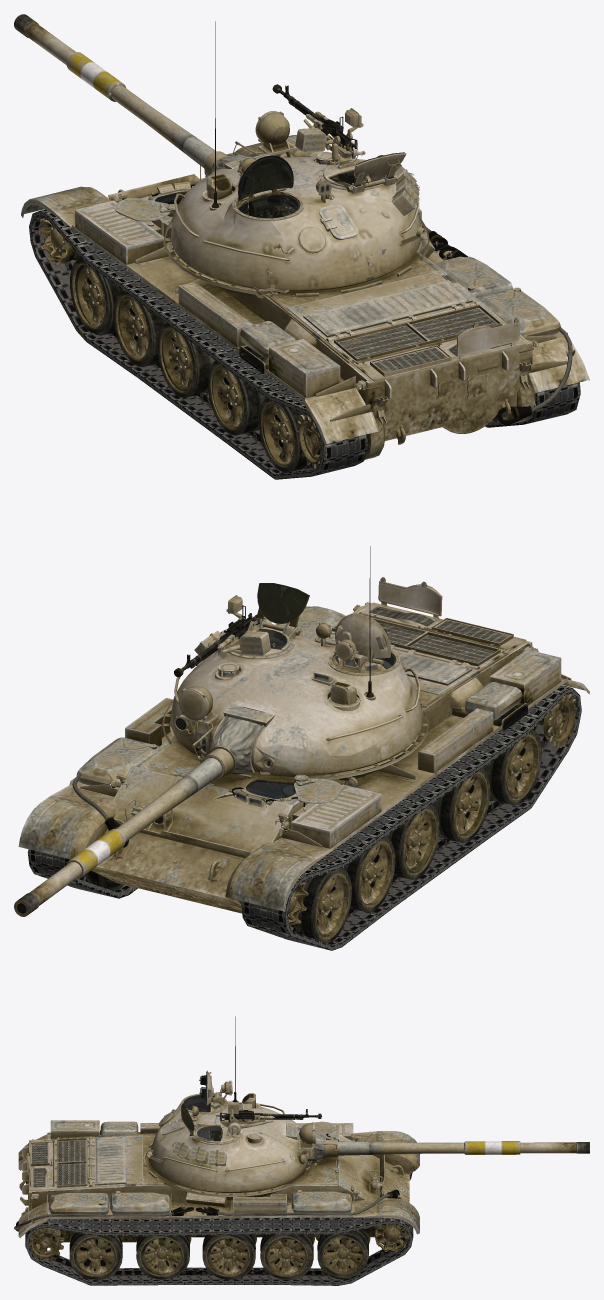
File: drive_t62a.glb
3 views of the same model, one above another, from view 1: azimuth 30°, elevation 25°; view 2: azimuth 150°, elevation 25°; view 3: azimuth 270°, elevation 25° (orthographic). The views are drawn at different scales.
Visible parts, largest first — view 1: Object_17, Object_15, Object_23, Object_14, Object_10, Object_11, Object_25, Object_7, Object_9, Object_5, Object_16, Object_26 (+2 smaller); view 2: Object_17, Object_15, Object_23, Object_14, Object_11, Object_16, Object_21, Object_10, Object_5, Object_7, Object_9; view 3: Object_17, Object_23, Object_15, Object_14, Object_4, Object_8, Object_6, Object_10, Object_11, Object_21, Object_16.
Boxes of the visible parts, x1,y1,x2,y2 form: Object_17: [21, 84, 589, 472]; Object_15: [171, 21, 424, 292]; Object_23: [29, 209, 580, 479]; Object_14: [14, 14, 296, 174]; Object_10: [113, 291, 153, 365]; Object_11: [70, 258, 109, 333]; Object_25: [238, 155, 293, 200]; Object_7: [208, 360, 247, 434]; Object_9: [157, 323, 208, 397]; Object_5: [258, 398, 297, 472]; Object_16: [114, 157, 276, 221]; Object_26: [238, 170, 355, 218]; Object_17: [18, 577, 589, 937]; Object_15: [172, 546, 422, 775]; Object_23: [27, 685, 581, 950]; Object_14: [14, 685, 260, 916]; Object_11: [89, 869, 351, 943]; Object_16: [294, 613, 391, 803]; Object_21: [239, 583, 391, 798]; Object_10: [345, 837, 395, 912]; Object_5: [483, 730, 541, 805]; Object_7: [432, 768, 490, 842]; Object_9: [389, 805, 439, 879]; Object_17: [14, 1081, 419, 1279]; Object_23: [25, 1172, 413, 1285]; Object_15: [146, 1016, 321, 1192]; Object_14: [297, 1122, 589, 1164]; Object_4: [69, 1232, 120, 1279]; Object_8: [202, 1235, 253, 1279]; Object_6: [136, 1236, 186, 1279]; Object_10: [260, 1234, 308, 1278]; Object_11: [317, 1235, 363, 1279]; Object_21: [154, 1102, 221, 1155]; Object_16: [206, 1071, 336, 1135].
Bounding box in the file's own units: 3.33 × 4.42 × 9.56.
Materials: 5 (4 with a texture image).
